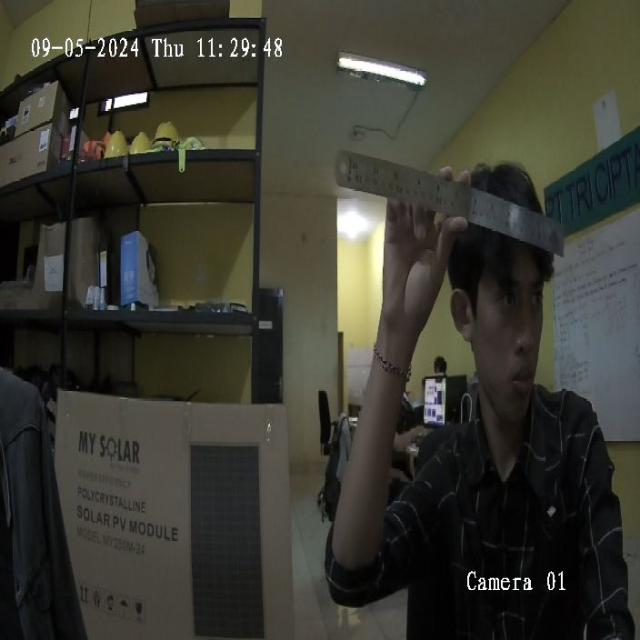Ruler: (335, 150, 563, 253)
